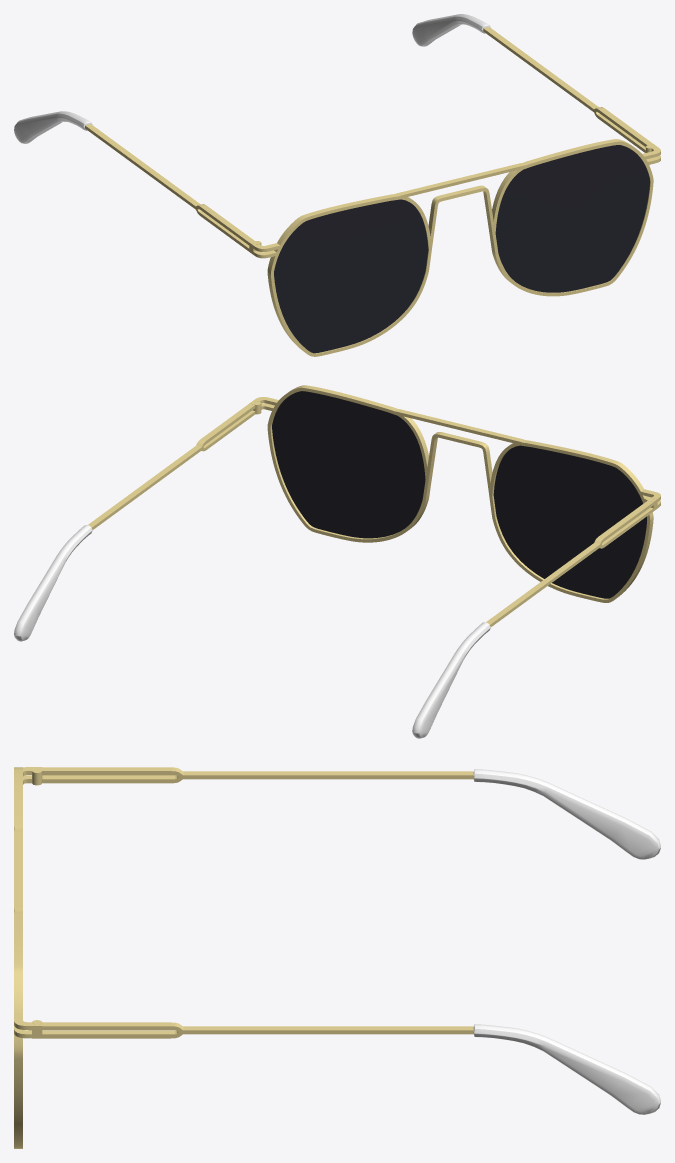
The model's file is bt_frame_c.glb.
The picture shows the model from 3 angles, top to bottom: view 1: azimuth 30°, elevation 25°; view 2: azimuth 150°, elevation 25°; view 3: azimuth 270°, elevation 25°; orthographic projection. The views are drawn at different scales.
Parts seen in each view (by area): view 1: glass_LP, F_LP, B_LP, A_LP, E_LP; view 2: glass_LP, F_LP, B_LP, A_LP; view 3: B_LP, A_LP, F_LP.
Part boxes in pixels (bbox=[...]): glass_LP: bbox=[274, 145, 649, 353]; F_LP: bbox=[267, 139, 653, 356]; B_LP: bbox=[85, 27, 652, 251]; A_LP: bbox=[14, 14, 490, 143]; E_LP: bbox=[253, 147, 660, 258]; glass_LP: bbox=[272, 391, 646, 598]; F_LP: bbox=[267, 385, 653, 602]; B_LP: bbox=[87, 403, 653, 627]; A_LP: bbox=[14, 525, 490, 738]; B_LP: bbox=[42, 767, 474, 1038]; A_LP: bbox=[473, 769, 660, 1114]; F_LP: bbox=[14, 767, 22, 1148].
Bounding box in the file's own units: 0.1531 × 0.0513 × 0.16.
